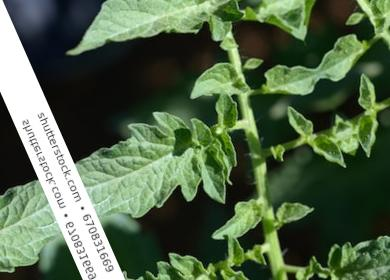Tomato leaf mosaic virus: (68, 93, 223, 231), (47, 0, 226, 90), (247, 49, 323, 117), (178, 52, 254, 117), (200, 191, 276, 252), (205, 89, 243, 132)
